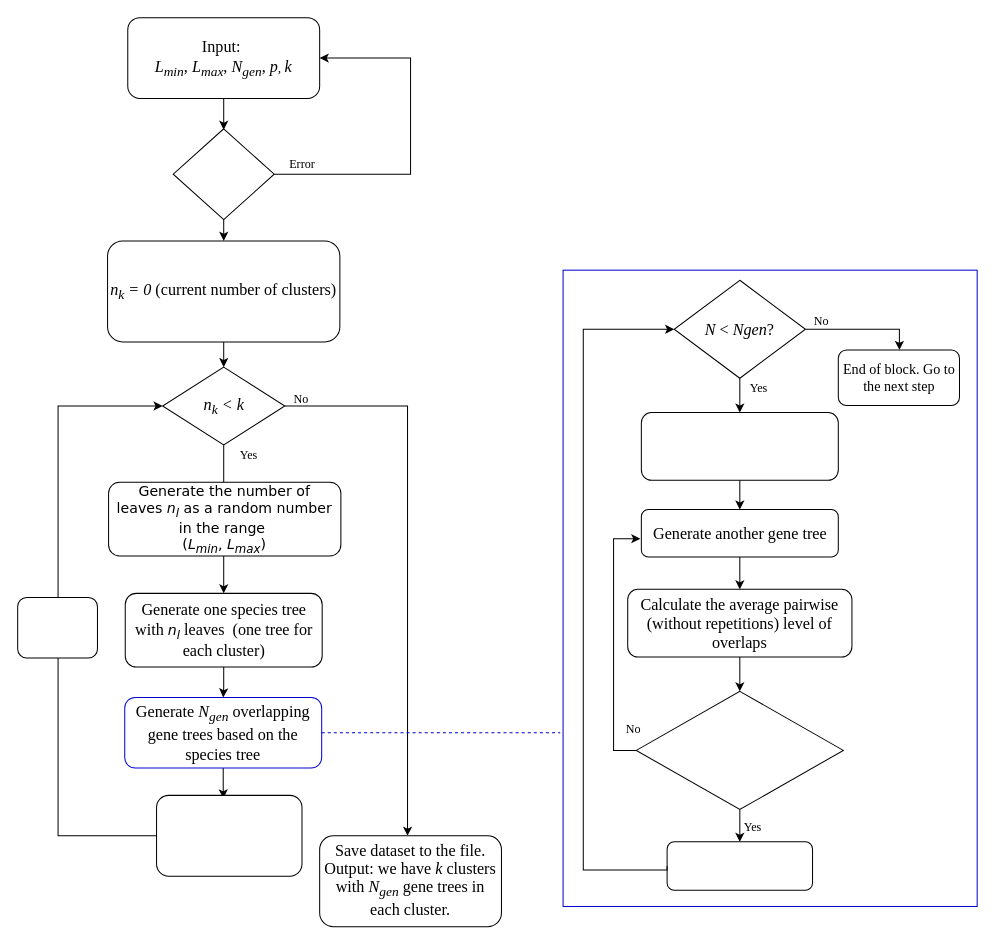
The diagram is 995 pixels wide and 944 high, and some of its shapes have lost their labels. Here are the shapes that lost their labels. From the top down, the box of each, then its label:
(172, 128, 274, 220): Validation
(640, 412, 838, 480): Generate the first gene tree based on the generated species tree
(17, 596, 97, 658): n k = n k + 1
(635, 690, 843, 810): Level of overlap in range ( p level -0.01; p level +0.01)?
(156, 794, 302, 876): Save data (cluster) to the dataset
(666, 841, 813, 890): Add trees into the intermediate set
